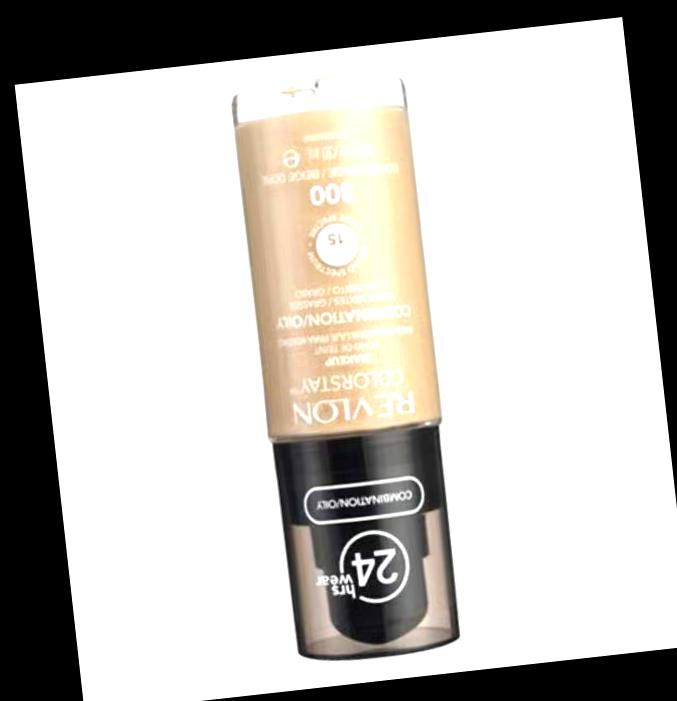cosmetic: (226, 75, 468, 666)
